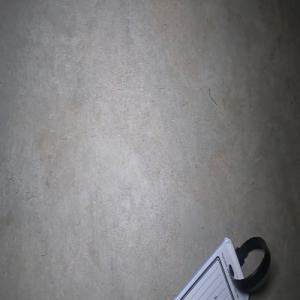LuggageTag: (168, 235, 271, 300)
